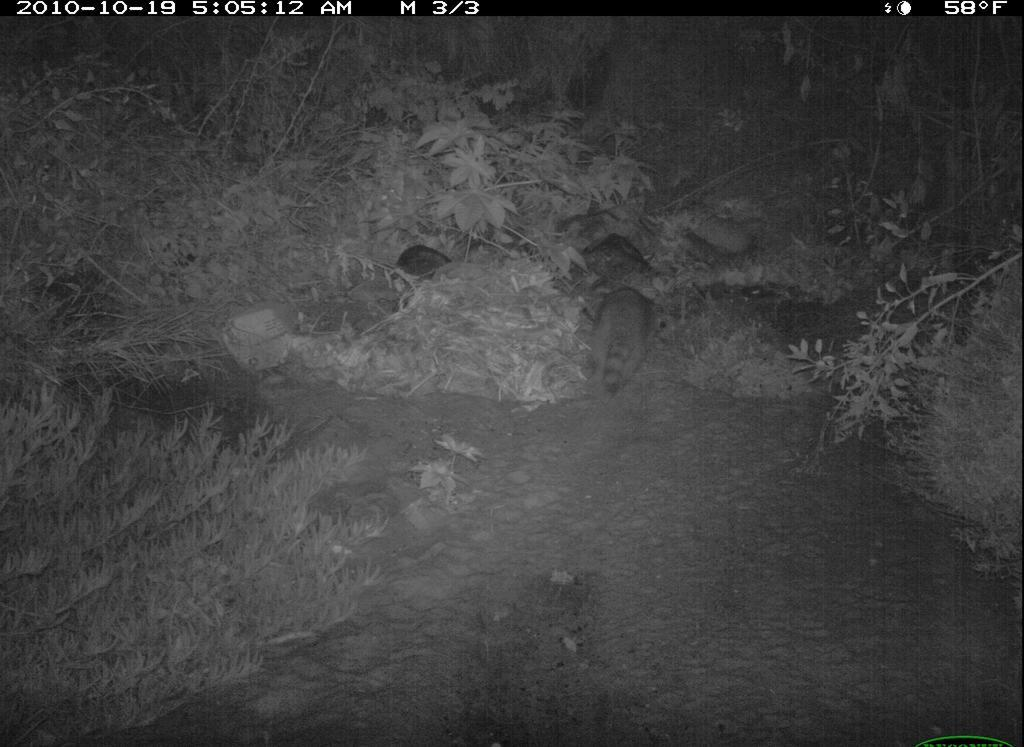raccoon: (562, 265, 678, 404)
